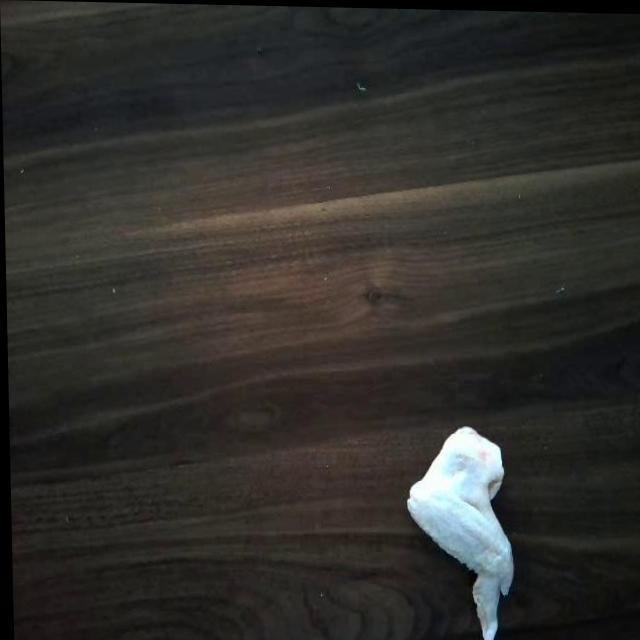wing: (410, 423, 520, 636)
